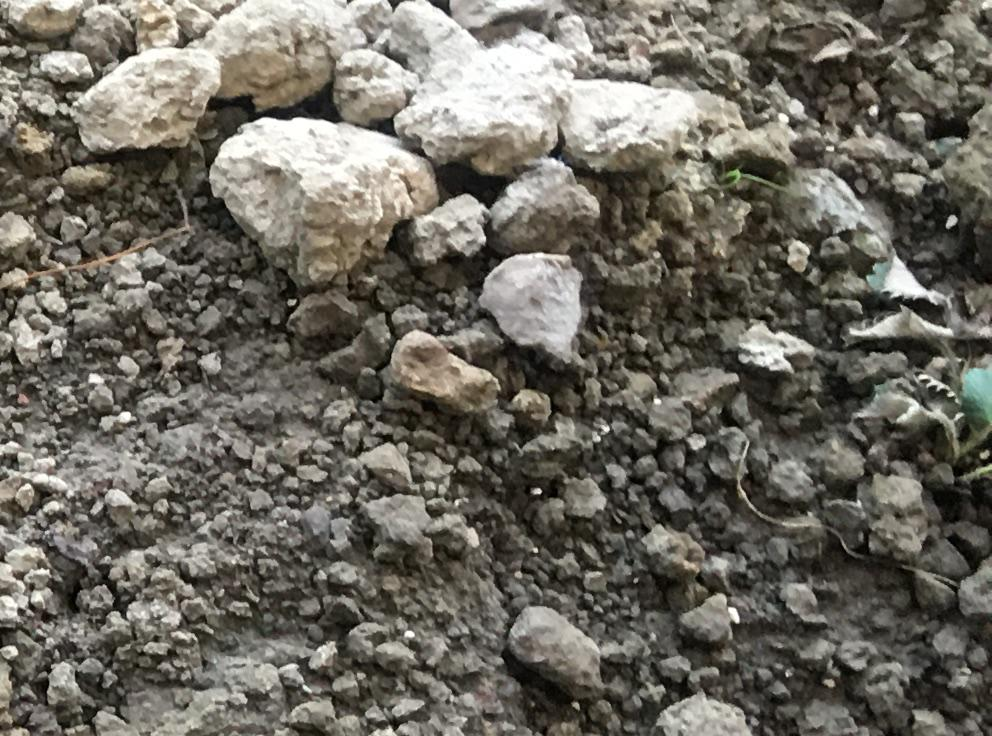block: (207, 114, 440, 294), (401, 32, 573, 173), (180, 5, 363, 109), (67, 48, 212, 152), (561, 69, 692, 174)
